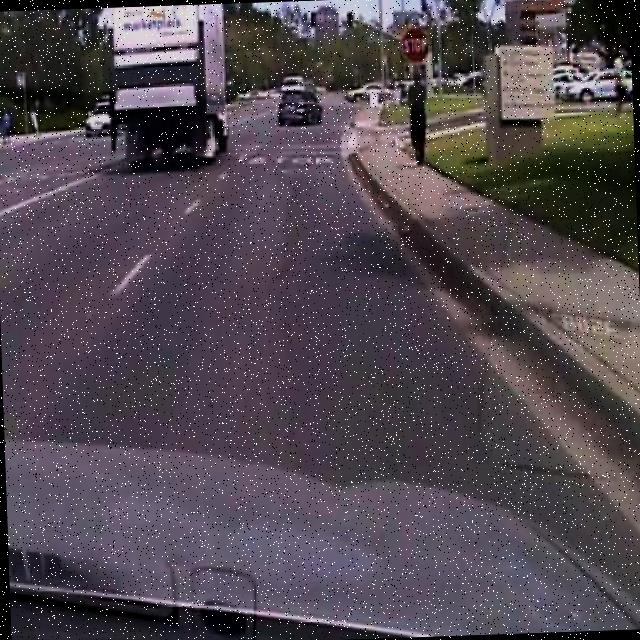Stop: (398, 24, 431, 64)
